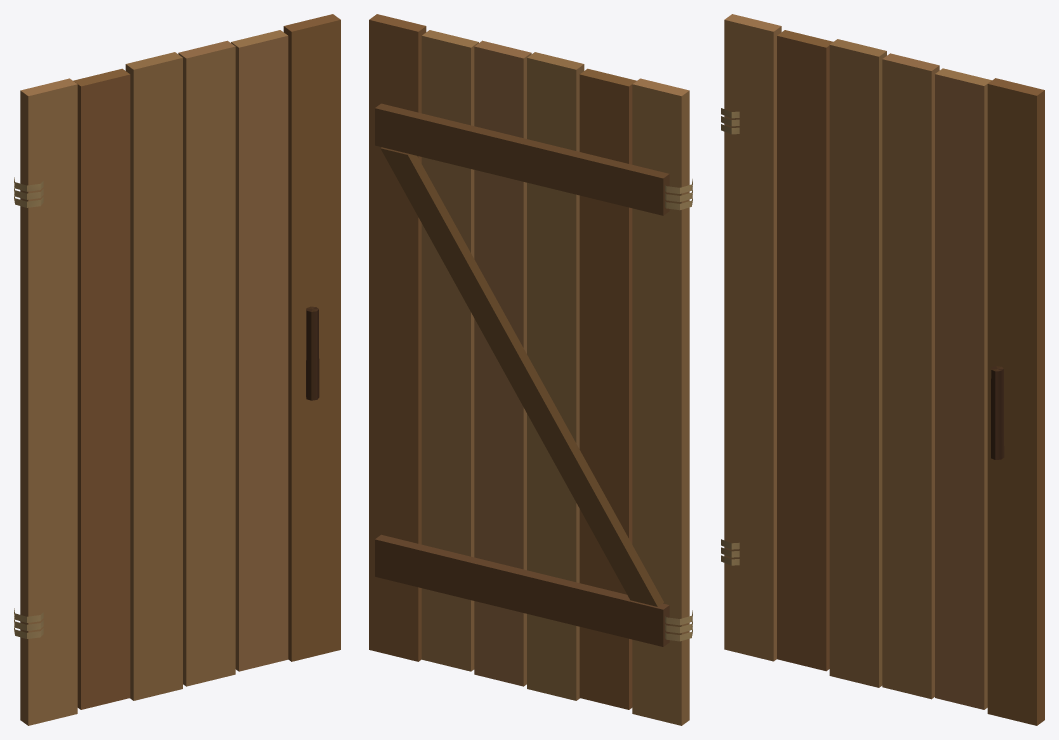
File: door.glb
The picture shows the model from 3 angles, left to right: view 1: azimuth 30°, elevation 25°; view 2: azimuth 150°, elevation 25°; view 3: azimuth 330°, elevation 25°; orthographic projection.
Parts seen in each view (by area): view 1: b_door_solid; view 2: b_door_solid; view 3: b_door_solid.
Boxes of the visible parts, x1,y1,x2,y2 form: b_door_solid: (14, 14, 340, 725); b_door_solid: (369, 14, 692, 725); b_door_solid: (721, 14, 1044, 725).
Size of the model in its own units: 1.17 by 2.2 by 0.1461.
